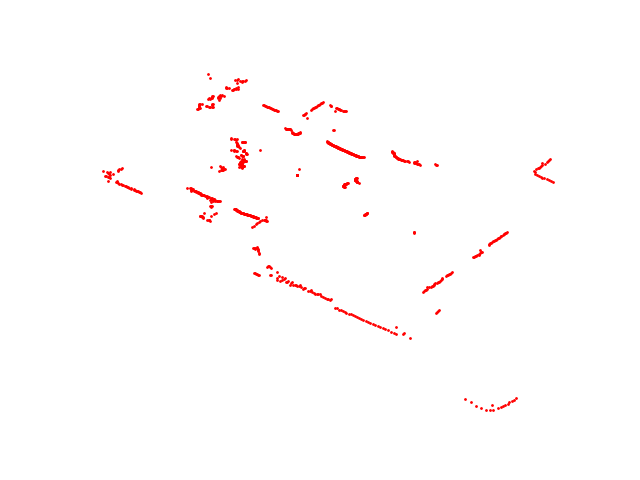person: (340, 174, 362, 192), (282, 124, 303, 140)
